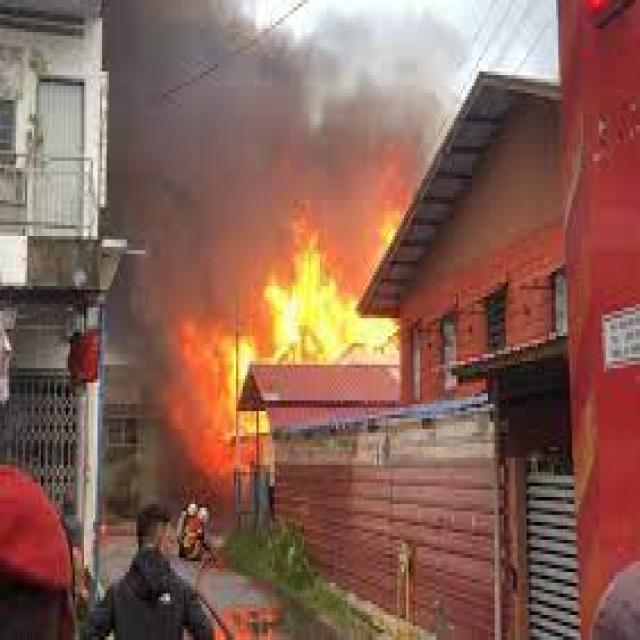Fire: (186, 331, 261, 476), (268, 255, 360, 366), (363, 317, 398, 372)
Smoke: (108, 0, 272, 245), (272, 2, 440, 170), (172, 226, 276, 342), (125, 258, 179, 404)
